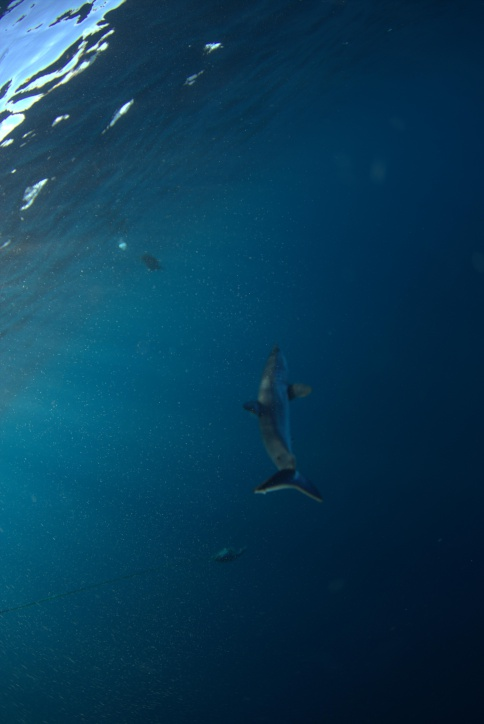Mako: (230, 326, 331, 512)
